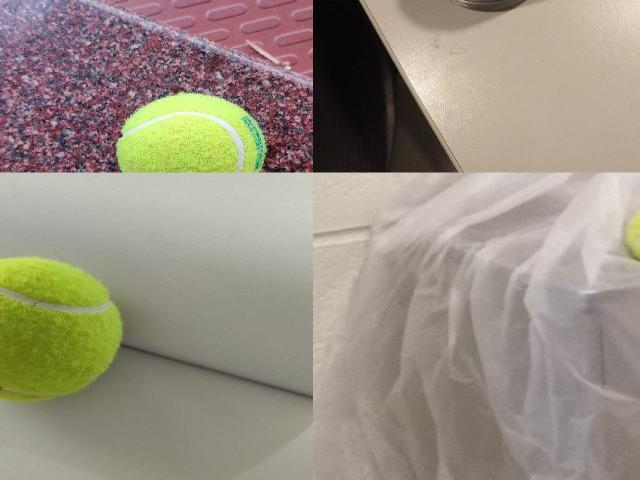tennis-ball: (0, 255, 125, 403), (116, 94, 265, 172), (622, 211, 640, 261)
